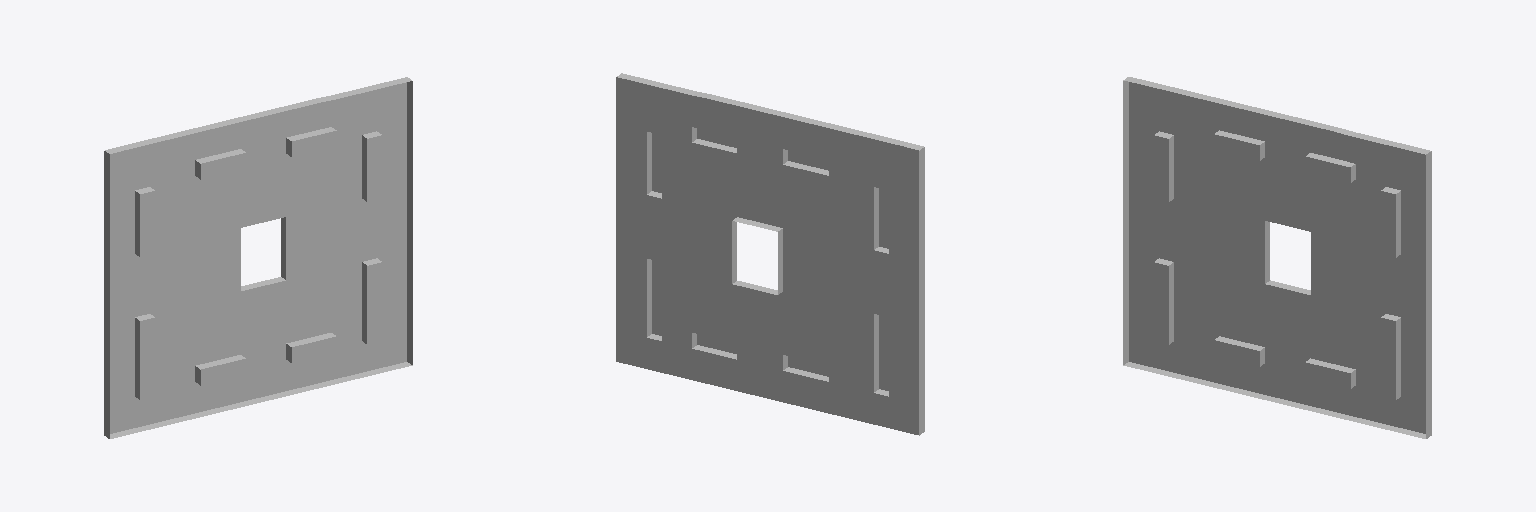
Rendered from Desert Storm (original export).obj.
3 views of the same model, side by side, from view 1: azimuth 30°, elevation 25°; view 2: azimuth 150°, elevation 25°; view 3: azimuth 330°, elevation 25° (orthographic).
Parts seen in each view (by area): view 1: Desert Storm; view 2: Desert Storm; view 3: Desert Storm.
Boxes of the visible parts, x1=… form: Desert Storm: x1=104, y1=77, x2=412, y2=438; Desert Storm: x1=616, y1=73, x2=924, y2=435; Desert Storm: x1=1123, y1=77, x2=1431, y2=438.
Size of the model in its own units: 1024 by 922 by 61.